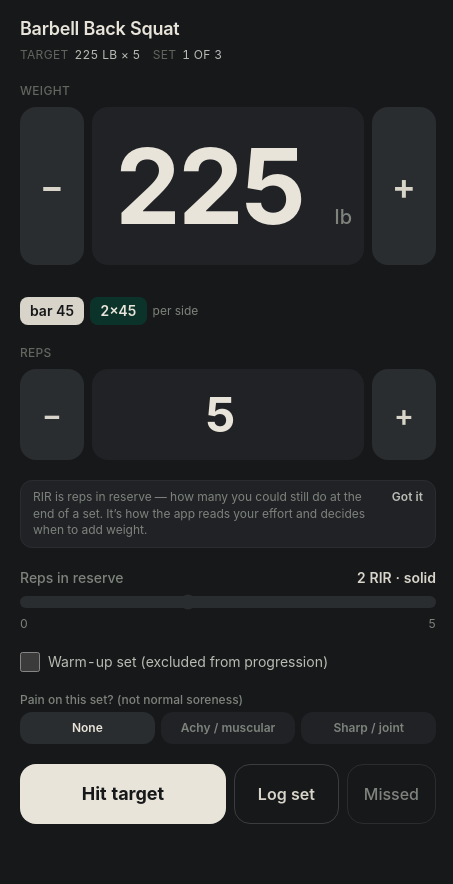
Test case: LogSet screen › clears a logged set with its delete button
Click the button "Hit target" at (123, 794), box [20,764,226,824]
(page scrolled)
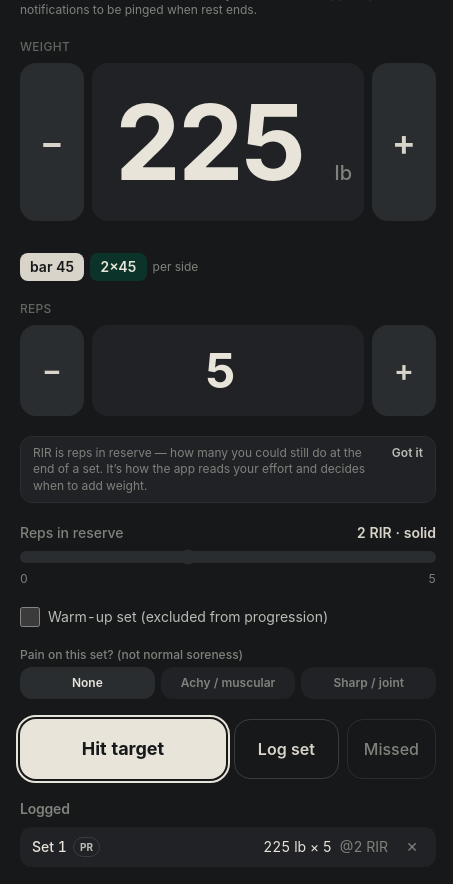
Expected: the text "225 lb × 5@2 RIR" is shown, [263,837,388,857]
Click the button named "clear set" at (412, 847), box [400,835,424,859]
(page scrolled)
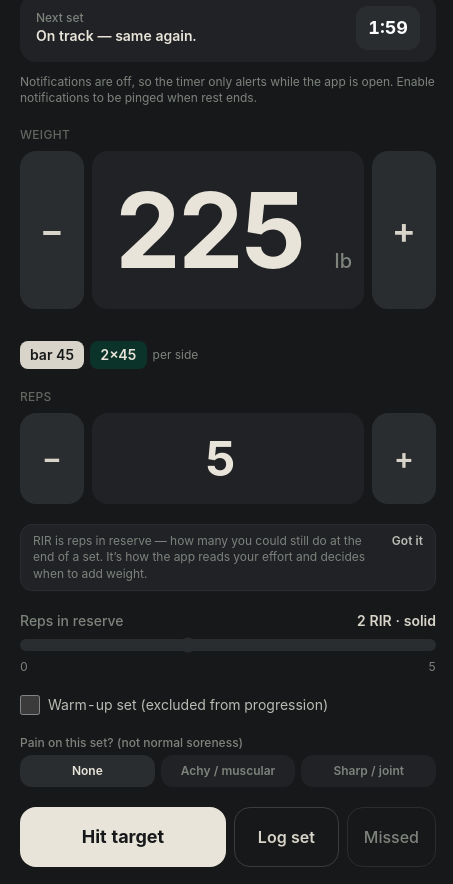
Expected: the list is gone
